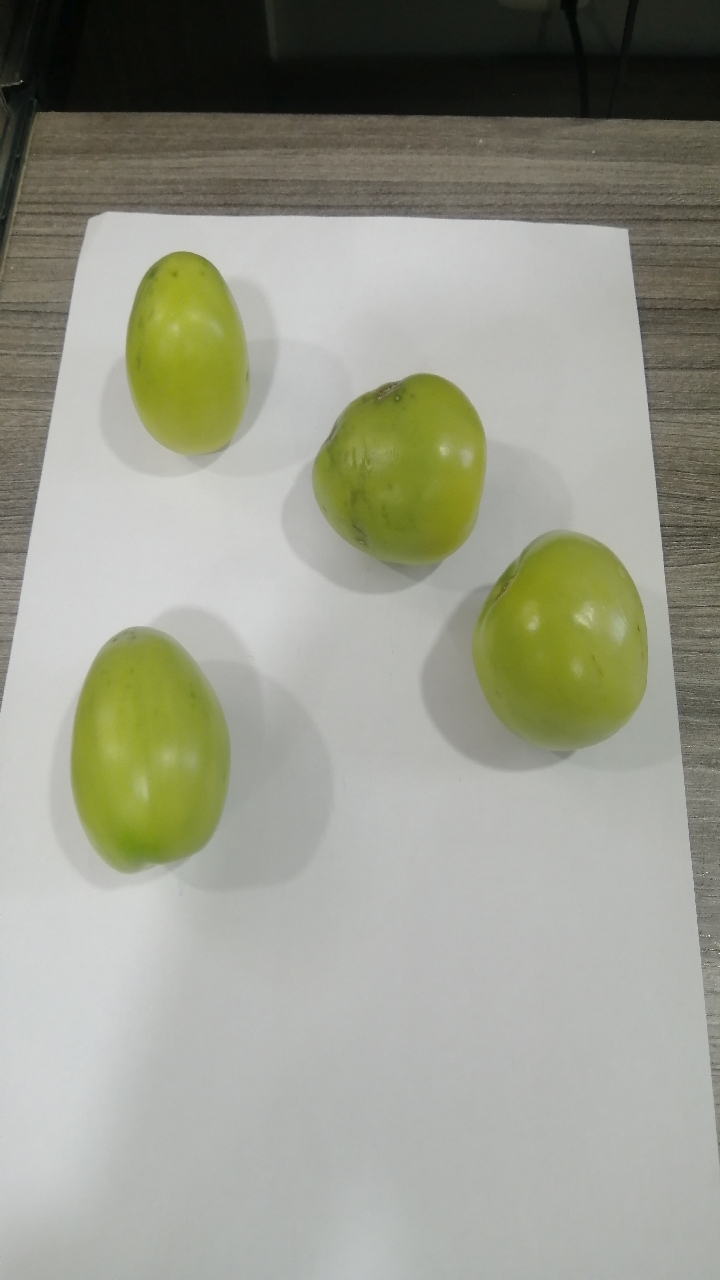tomateVerde: (44, 606, 269, 895), (449, 511, 672, 772), (295, 340, 509, 577), (104, 235, 280, 471)
